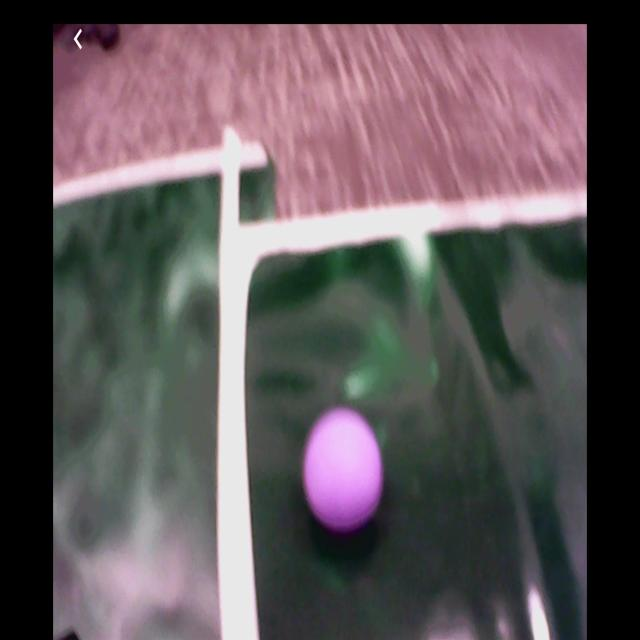ball: (303, 411, 384, 530)
